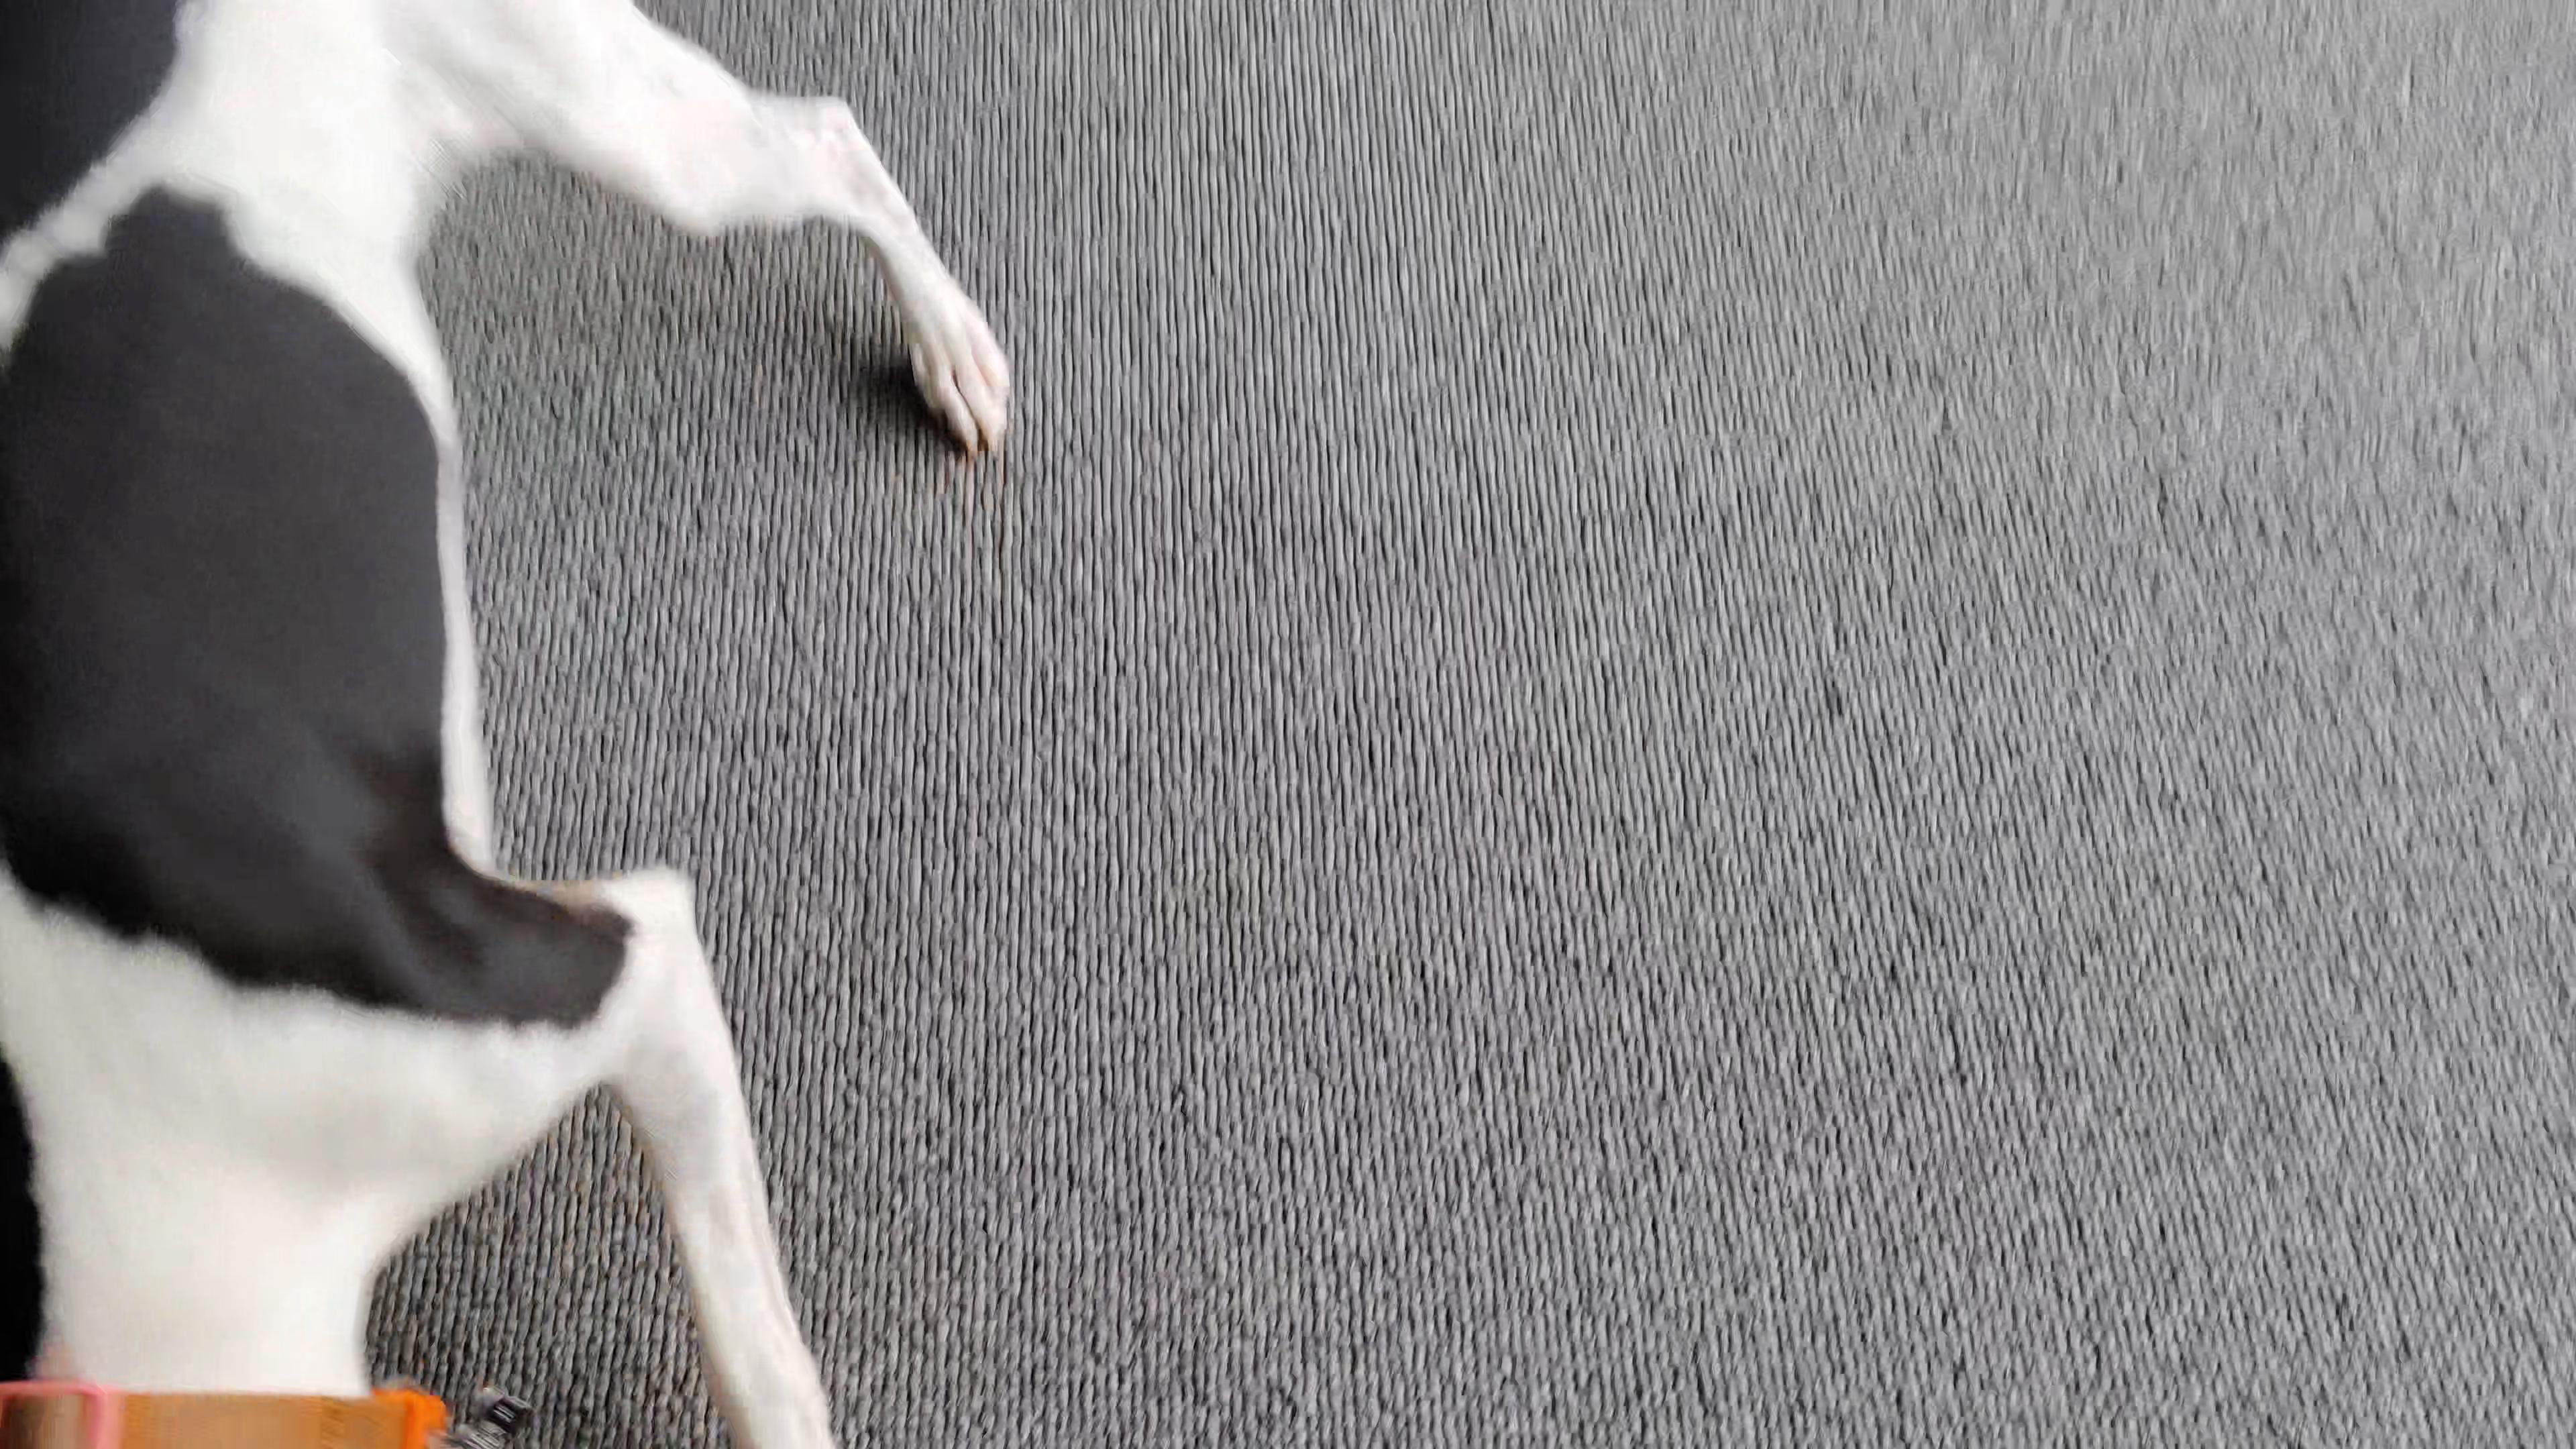Dog: (0, 0, 1037, 1449)
